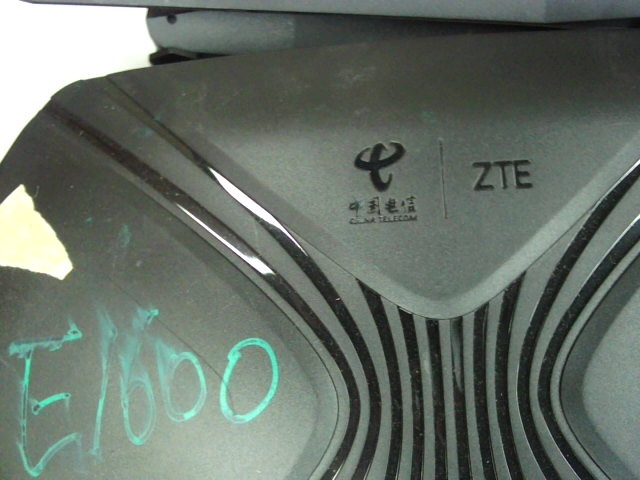AX_ZTEChinaTelecom: (337, 139, 535, 231)
